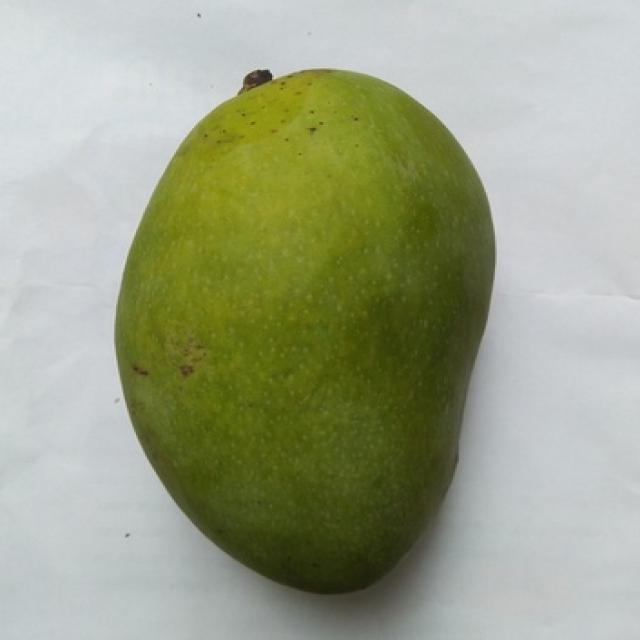Mango: (116, 70, 493, 592)
